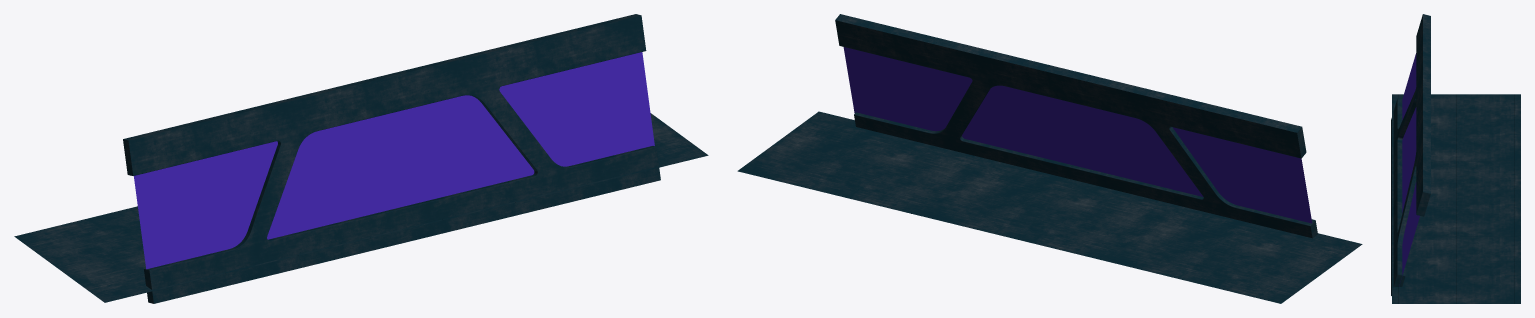
Rendered from frame.glb.
3 views of the same model, side by side, from view 1: azimuth 30°, elevation 25°; view 2: azimuth 150°, elevation 25°; view 3: azimuth 270°, elevation 25° (orthographic). The views are drawn at different scales.
Parts seen in each view (by area): view 1: polySurface2; view 2: polySurface2; view 3: polySurface2.
Boxes of the visible parts, bbox=[...] form: polySurface2: bbox=[14, 14, 708, 303]; polySurface2: bbox=[737, 14, 1362, 303]; polySurface2: bbox=[1391, 14, 1520, 303].
Bounding box in the file's own units: 0.5995 × 0.1427 × 0.157.
Materials: 2 (1 with a texture image).
